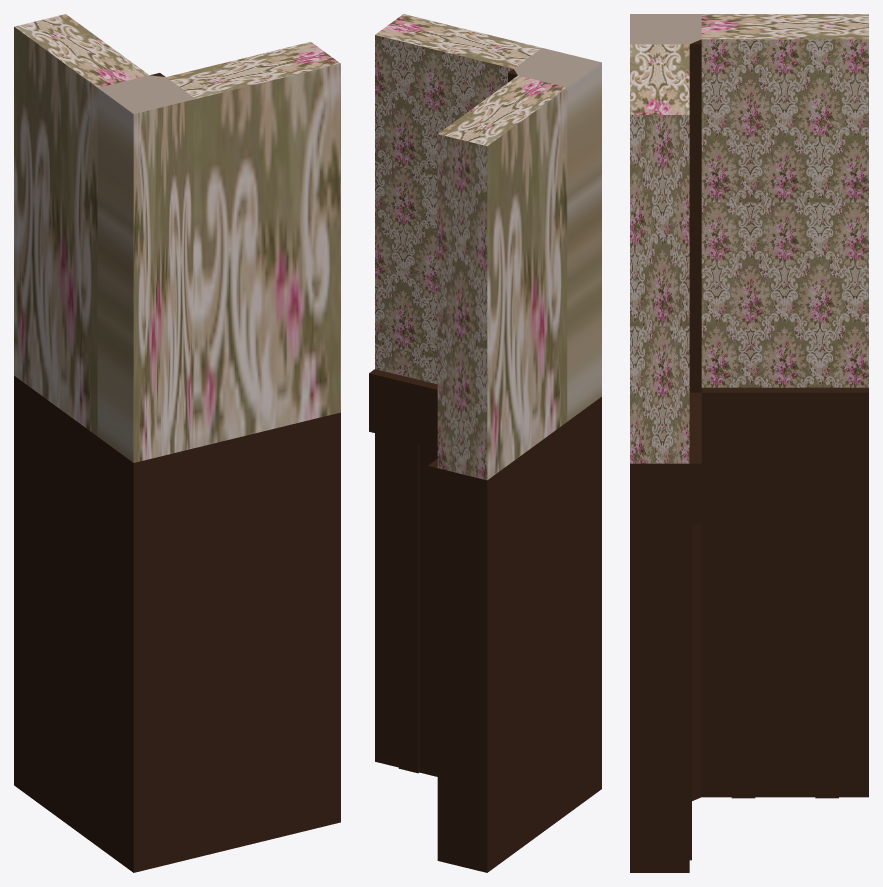
Rendered from Kitchen Wall 2 Curve.fbx.
3 views of the same model, side by side, from view 1: azimuth 30°, elevation 25°; view 2: azimuth 150°, elevation 25°; view 3: azimuth 270°, elevation 25° (orthographic). The views are drawn at different scales.
Visible parts, largest first — view 1: Cube.031; view 2: Cube.031; view 3: Cube.031.
Part boxes in pixels (<box>): Cube.031: <box>14,14,340,872</box>; Cube.031: <box>369,14,601,872</box>; Cube.031: <box>630,14,868,872</box>.
Bounding box in the file's own units: 200 × 700 × 200.
